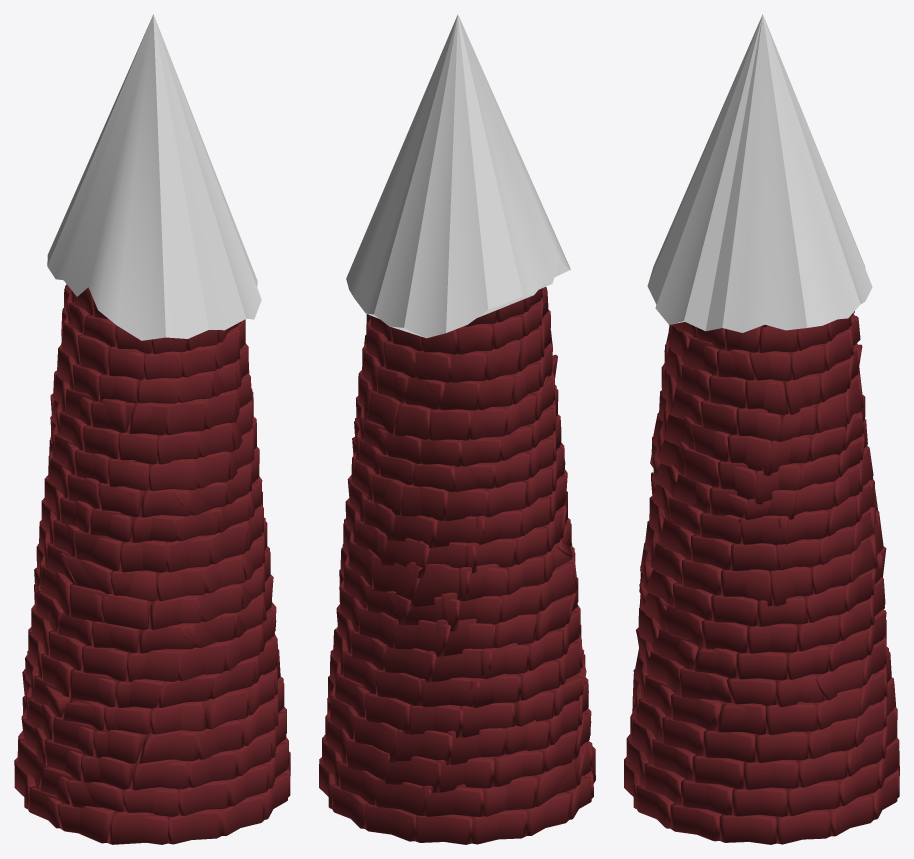
The model's file is tower3.fbx.
The picture shows the model from 3 angles, left to right: view 1: azimuth 30°, elevation 25°; view 2: azimuth 150°, elevation 25°; view 3: azimuth 270°, elevation 25°; orthographic projection.
Parts seen in each view (by area): view 1: Cube, Cone; view 2: Cube, Cone; view 3: Cube, Cone.
Part boxes in pixels (x1,y1,x2,y2): Cube: (14,284,290,844); Cone: (47,14,261,340); Cube: (319,287,595,844); Cone: (346,14,570,338); Cube: (624,311,899,844); Cone: (647,14,872,332).
Bounding box in the file's own units: 554 × 1706 × 550.
